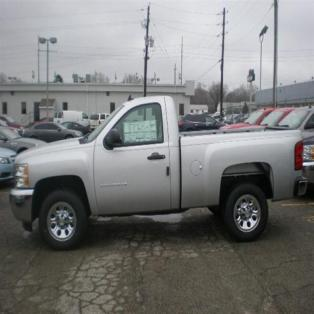Auto: (9, 95, 308, 250)
